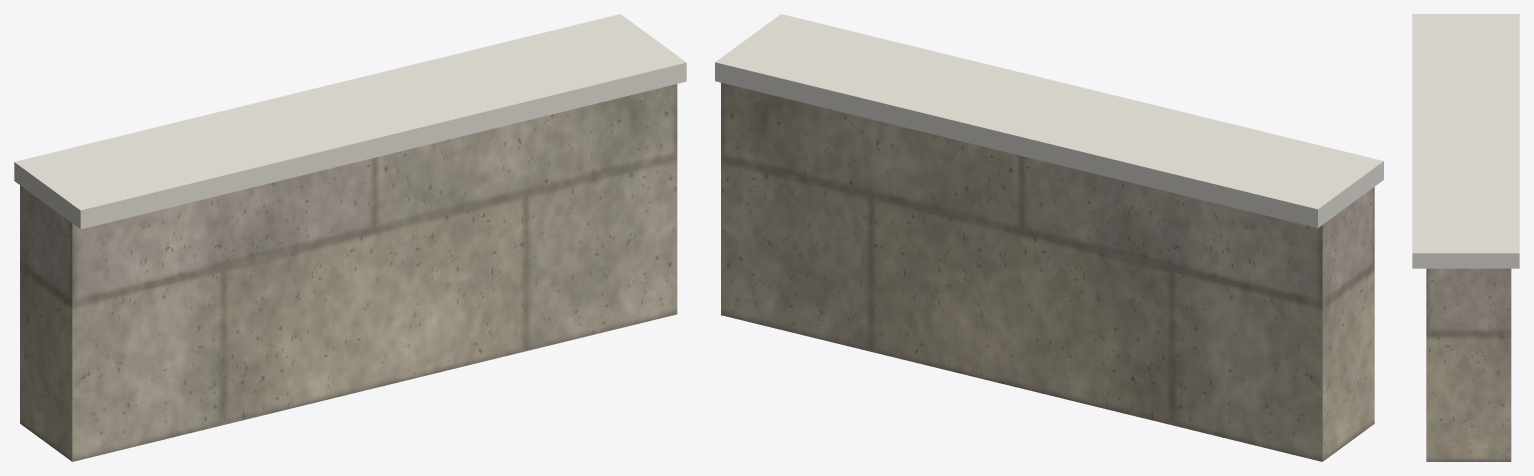
File: parapet_side_b.glb
The picture shows the model from 3 angles, left to right: view 1: azimuth 30°, elevation 25°; view 2: azimuth 150°, elevation 25°; view 3: azimuth 270°, elevation 25°; orthographic projection. The views are drawn at different scales.
Parts seen in each view (by area): view 1: parapet_side_b_grey, parapet_side_b_lime; view 2: parapet_side_b_grey, parapet_side_b_lime; view 3: parapet_side_b_lime, parapet_side_b_grey.
Boxes of the visible parts, x1,y1,x2,y2 form: parapet_side_b_grey: [20, 84, 677, 461]; parapet_side_b_lime: [14, 14, 686, 229]; parapet_side_b_grey: [721, 82, 1374, 461]; parapet_side_b_lime: [715, 14, 1383, 228]; parapet_side_b_lime: [1412, 14, 1519, 268]; parapet_side_b_grey: [1426, 268, 1511, 461].
Bounding box in the file's own units: 2 × 0.815 × 0.38.
2 materials, 1 textured.
